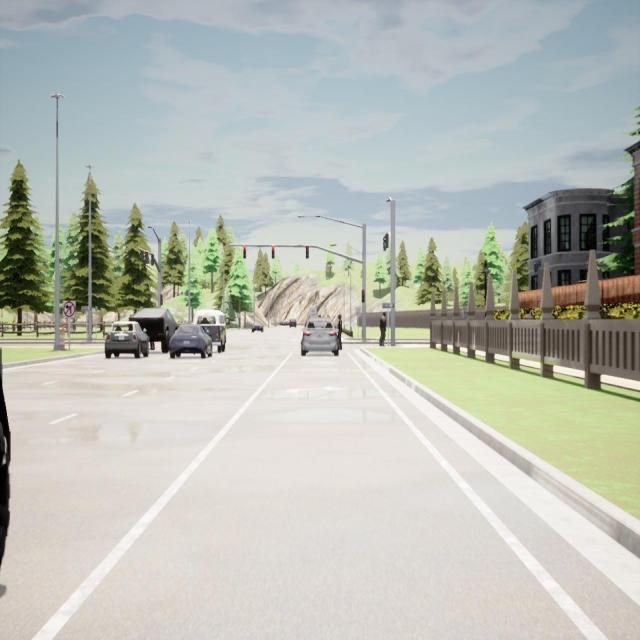Pedestrian: (379, 312, 387, 345), (336, 315, 343, 349)
Traffic_Signs: (62, 300, 76, 318), (310, 307, 317, 318), (382, 303, 394, 308), (82, 305, 91, 311), (356, 307, 360, 315)
Vehicle: (0, 345, 13, 581), (127, 307, 178, 353), (104, 322, 149, 359), (168, 323, 213, 358), (194, 309, 230, 352), (301, 319, 338, 356), (251, 322, 264, 333), (288, 318, 296, 328), (280, 320, 289, 326)
traffic_light: (151, 254, 155, 266), (383, 237, 386, 251), (243, 245, 246, 259), (386, 234, 389, 248), (306, 246, 309, 259), (362, 290, 365, 303), (146, 252, 149, 263), (141, 251, 144, 262), (272, 245, 274, 259)
